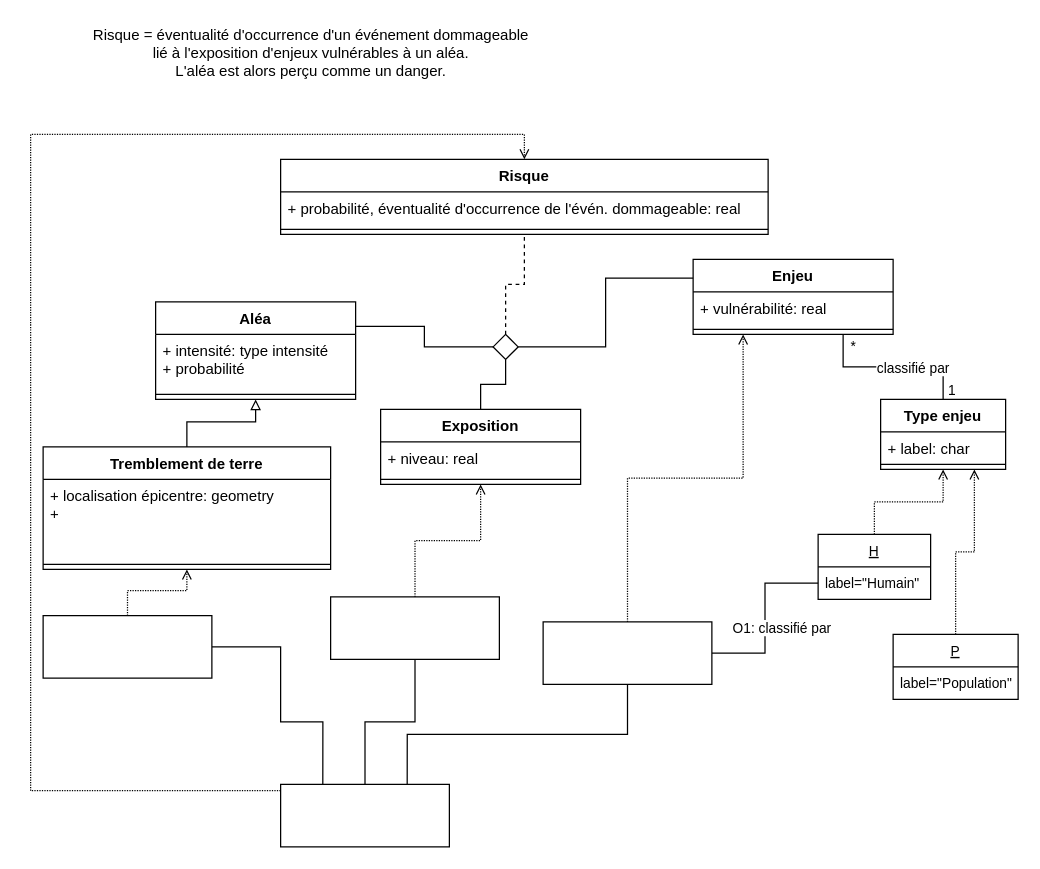
Image size: 1040x869. Some labels were removed from this diagram. The centre of each missing label's shape, as x and y in pixels:
Dommages corporels sur Jef: point 364,815
Jef: point 627,652
Jef présent sur sol Guyanais le 08/06/2006: point 414,627
tremblement de terre 08/06/2006, Guyane: point 127,646
